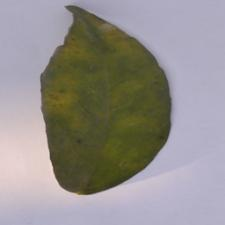Greening: (34, 9, 160, 179)
